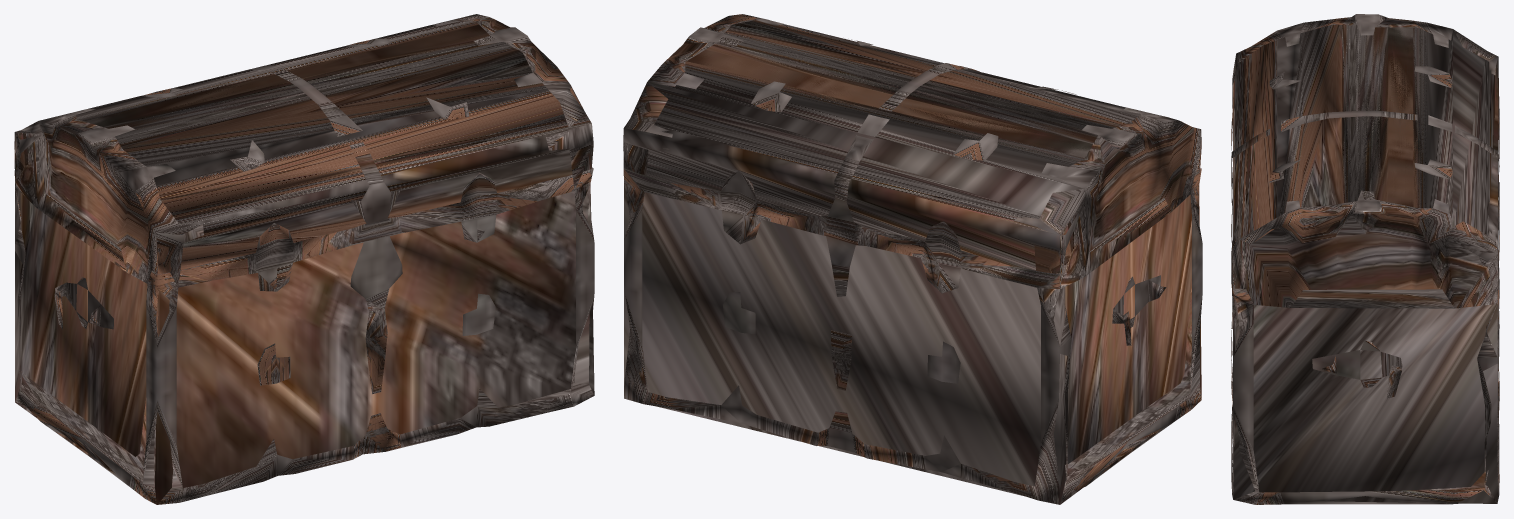
File: chest-treasure-real.lite.1d4c3cc4.glb
3 renders of one model, left to right at view 1: azimuth 30°, elevation 25°; view 2: azimuth 150°, elevation 25°; view 3: azimuth 270°, elevation 25°, orthographic. The views are drawn at different scales.
Parts seen in each view (by area): view 1: model; view 2: model; view 3: model.
Boxes of the visible parts, x1,y1,x2,y2 form: model: (14,14,594,504); model: (623,14,1202,504); model: (1231,14,1499,504).
Size of the model in its own units: 0.9416 by 0.6175 by 0.5116.
Materials: 1 (1 with a texture image).
